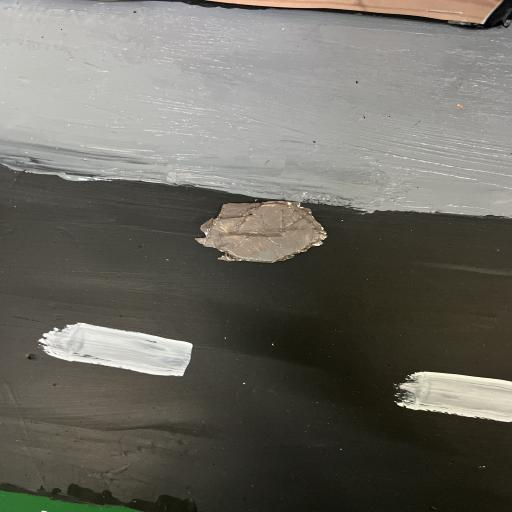porthole: (186, 188, 338, 270)
